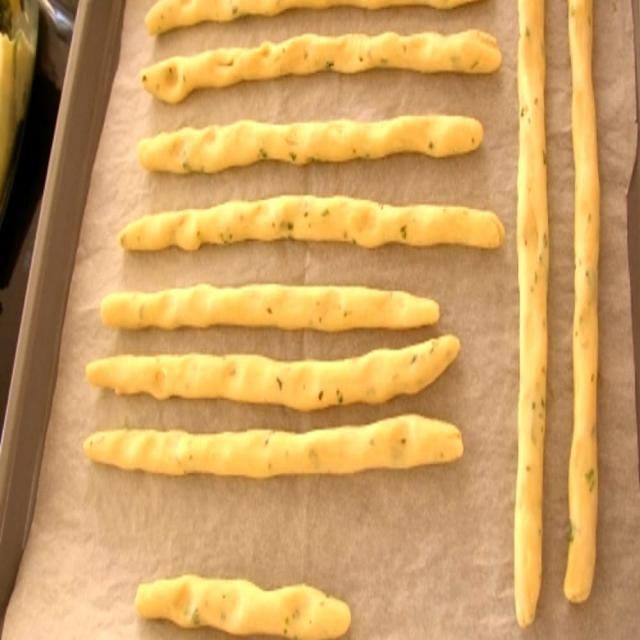Grissini: (91, 19, 493, 616), (515, 1, 601, 631)
